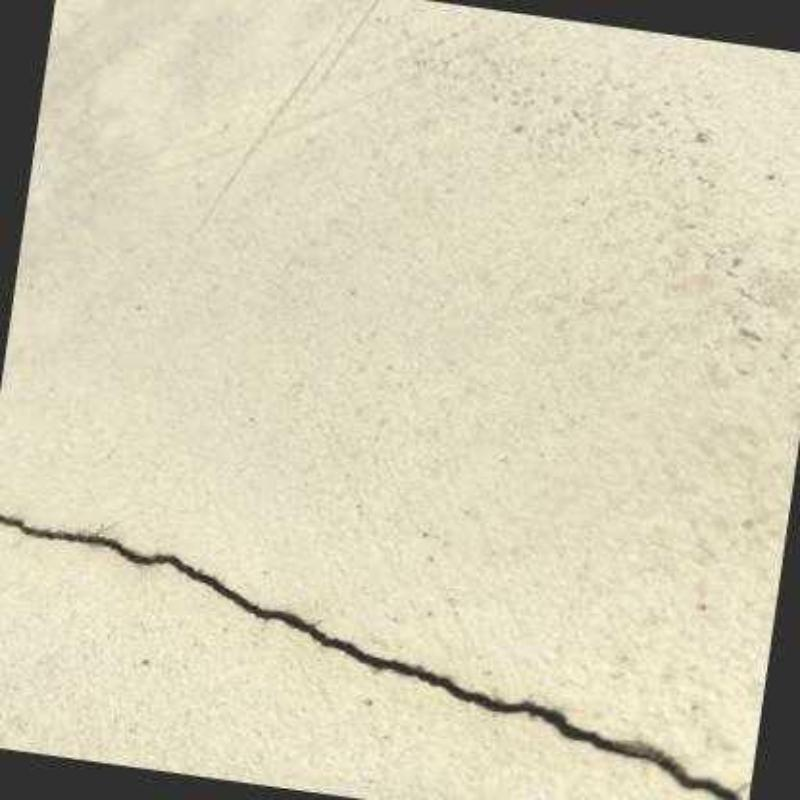pothole: (0, 515, 743, 800)
